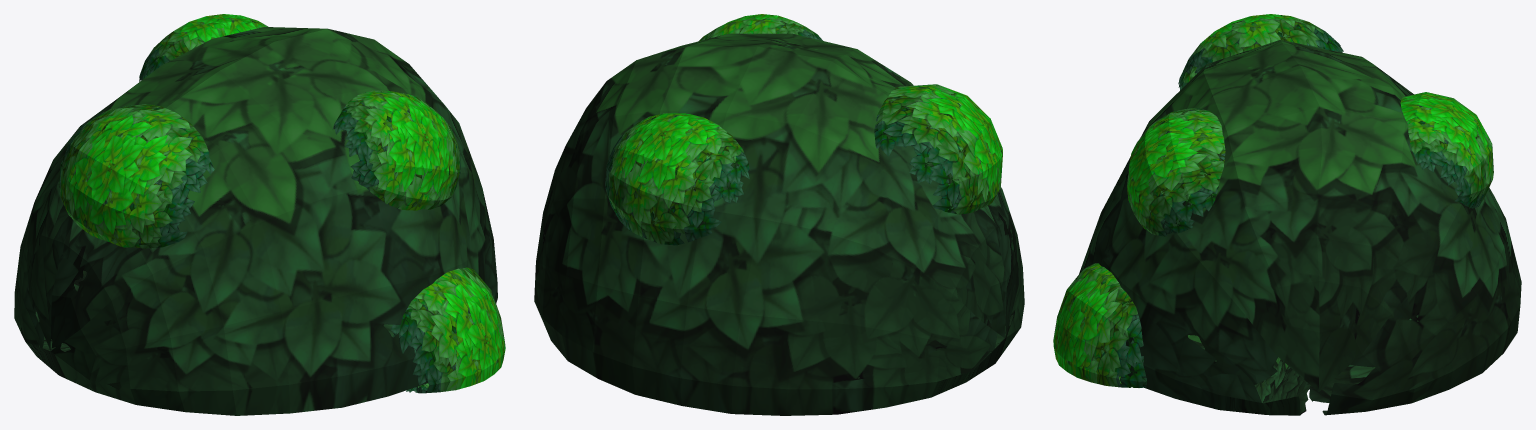
File: Bush1.glb
The picture shows the model from 3 angles, left to right: view 1: azimuth 30°, elevation 25°; view 2: azimuth 150°, elevation 25°; view 3: azimuth 270°, elevation 25°; orthographic projection. The views are drawn at different scales.
Parts seen in each view (by area): view 1: Asset3DLoader.sceneRoot; view 2: Asset3DLoader.sceneRoot; view 3: Asset3DLoader.sceneRoot.
Boxes of the visible parts, x1=… form: Asset3DLoader.sceneRoot: x1=14, y1=14, x2=505, y2=415; Asset3DLoader.sceneRoot: x1=534, y1=14, x2=1024, y2=415; Asset3DLoader.sceneRoot: x1=1053, y1=14, x2=1521, y2=415.
Bounding box in the file's own units: 1.92 × 1.18 × 1.88.
Materials: 5 (5 with a texture image).
